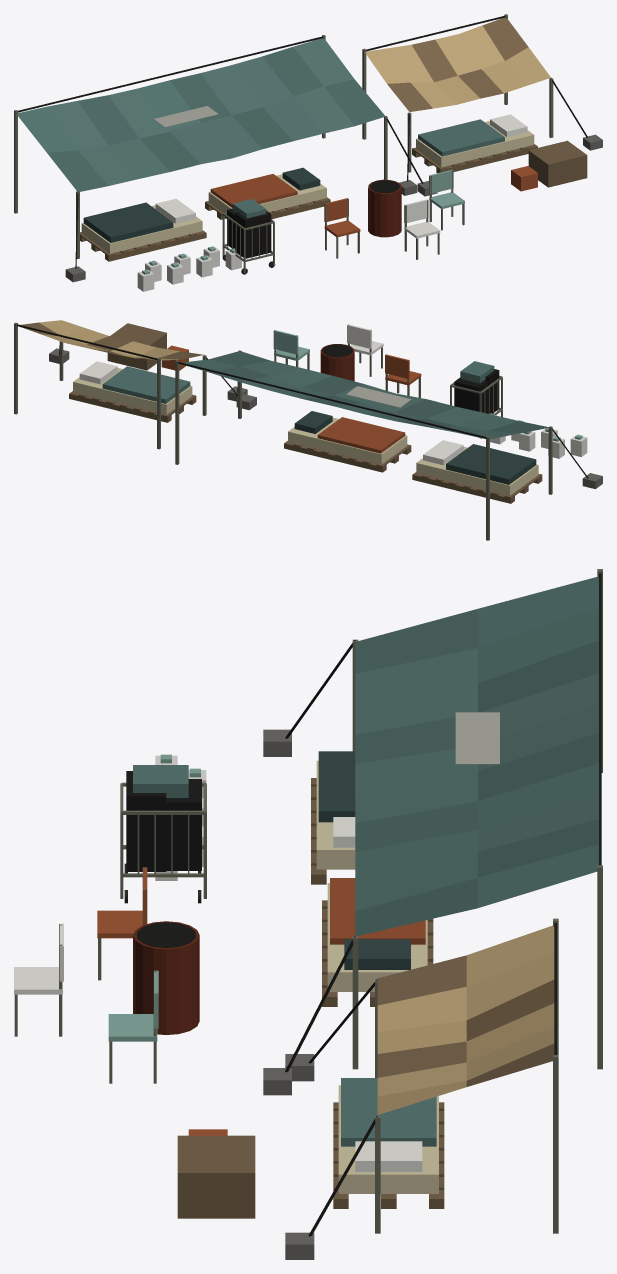
Rendered from tunnel_camp_b.glb.
3 renders of one model, top to bottom at view 1: azimuth 30°, elevation 25°; view 2: azimuth 150°, elevation 25°; view 3: azimuth 270°, elevation 25°, orthographic. The views are drawn at different scales.
Parts seen in each view (by area): view 1: tunnel_camp_b_blue, tunnel_camp_b_blue_d, tunnel_camp_b_tan, tunnel_camp_b_wood, tunnel_camp_b_mat_, tunnel_camp_b_steel, tunnel_camp_b_black, tunnel_camp_b_tan_d, tunnel_camp_b_cloth, tunnel_camp_b_white, tunnel_camp_b_jug, tunnel_camp_b_cloth_r (+5 smaller); view 2: tunnel_camp_b_blue, tunnel_camp_b_mat_, tunnel_camp_b_wood, tunnel_camp_b_steel, tunnel_camp_b_blue_d, tunnel_camp_b_black, tunnel_camp_b_cloth, tunnel_camp_b_white, tunnel_camp_b_cloth_r, tunnel_camp_b_tan, tunnel_camp_b_jug, tunnel_camp_b_rustp (+5 smaller); view 3: tunnel_camp_b_blue, tunnel_camp_b_blue_d, tunnel_camp_b_tan, tunnel_camp_b_wood, tunnel_camp_b_black, tunnel_camp_b_steel, tunnel_camp_b_tan_d, tunnel_camp_b_mat_, tunnel_camp_b_rustbar, tunnel_camp_b_cloth, tunnel_camp_b_white, tunnel_camp_b_conc_d (+4 smaller).
Boxes of the visible parts, bbox=[...] form: tunnel_camp_b_blue: bbox=[17, 38, 504, 218]; tunnel_camp_b_blue_d: bbox=[47, 47, 385, 191]; tunnel_camp_b_tan: bbox=[365, 25, 550, 108]; tunnel_camp_b_wood: bbox=[80, 140, 587, 261]; tunnel_camp_b_mat_: bbox=[81, 121, 534, 253]; tunnel_camp_b_steel: bbox=[14, 14, 553, 273]; tunnel_camp_b_black: bbox=[18, 16, 588, 268]; tunnel_camp_b_tan_d: bbox=[387, 17, 528, 111]; tunnel_camp_b_cloth: bbox=[83, 167, 320, 242]; tunnel_camp_b_white: bbox=[155, 114, 527, 238]; tunnel_camp_b_jug: bbox=[137, 246, 241, 291]; tunnel_camp_b_cloth_r: bbox=[210, 174, 297, 207]; tunnel_camp_b_blue: bbox=[102, 359, 519, 439]; tunnel_camp_b_mat_: bbox=[73, 368, 538, 495]; tunnel_camp_b_wood: bbox=[69, 323, 542, 503]; tunnel_camp_b_steel: bbox=[14, 322, 552, 540]; tunnel_camp_b_blue_d: bbox=[209, 351, 548, 433]; tunnel_camp_b_black: bbox=[17, 324, 588, 478]; tunnel_camp_b_cloth: bbox=[294, 411, 536, 484]; tunnel_camp_b_white: bbox=[79, 324, 463, 465]; tunnel_camp_b_cloth_r: bbox=[317, 417, 405, 453]; tunnel_camp_b_tan: bbox=[39, 320, 179, 360]; tunnel_camp_b_jug: bbox=[490, 415, 587, 458]; tunnel_camp_b_rustp: bbox=[161, 345, 421, 385]; tunnel_camp_b_blue: bbox=[133, 577, 598, 1146]; tunnel_camp_b_blue_d: bbox=[355, 609, 598, 936]; tunnel_camp_b_tan: bbox=[377, 925, 554, 1114]; tunnel_camp_b_wood: bbox=[177, 778, 444, 1218]; tunnel_camp_b_black: bbox=[126, 573, 601, 1236]; tunnel_camp_b_steel: bbox=[14, 569, 602, 1233]; tunnel_camp_b_tan_d: bbox=[377, 955, 554, 1086]; tunnel_camp_b_mat_: bbox=[316, 760, 438, 1193]; tunnel_camp_b_rustbar: bbox=[133, 921, 199, 1034]; tunnel_camp_b_cloth: bbox=[318, 751, 410, 969]; tunnel_camp_b_white: bbox=[14, 817, 422, 1171]; tunnel_camp_b_conc_d: bbox=[263, 729, 314, 1259].
Size of the model in its own units: 10.96 by 2.01 by 5.3.
